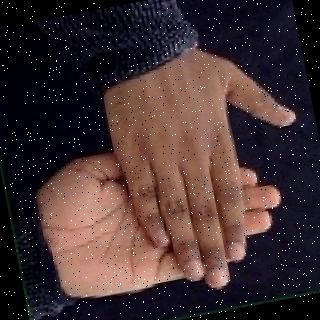H: (36, 33, 320, 317)
